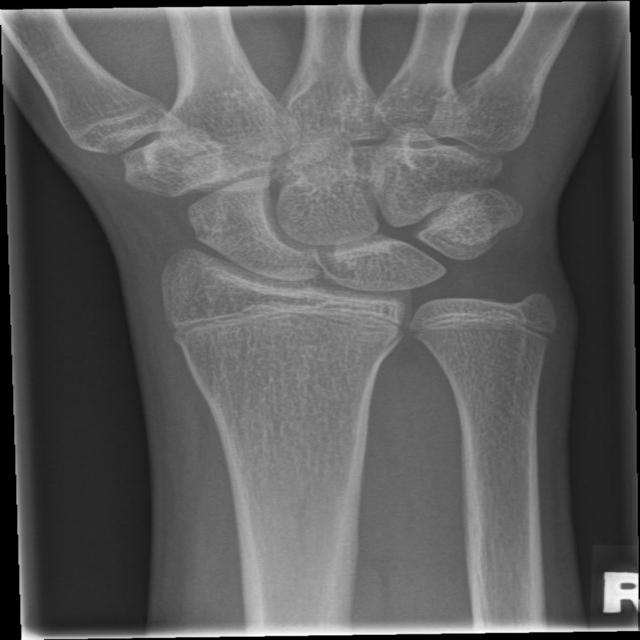fracture: (157, 291, 410, 354), (382, 297, 561, 351)
